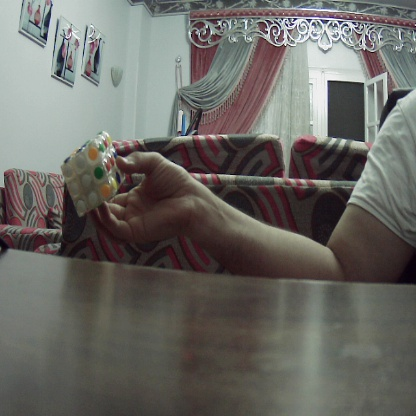Rubix Cube: (60, 132, 126, 215)
